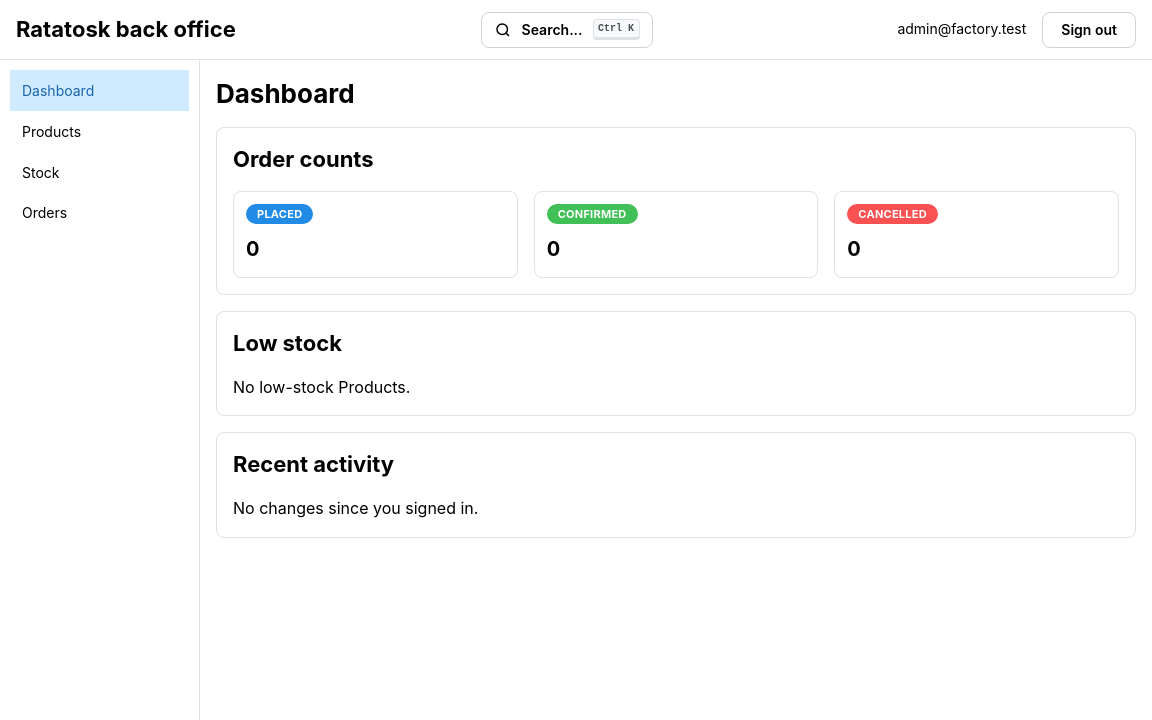
App › shows the Orders screen from the navbar
The width and height of the screenshot is (1152, 720).
Click the button "Orders".
click(100, 213)  # box x1=10 y1=192 x2=189 y2=233
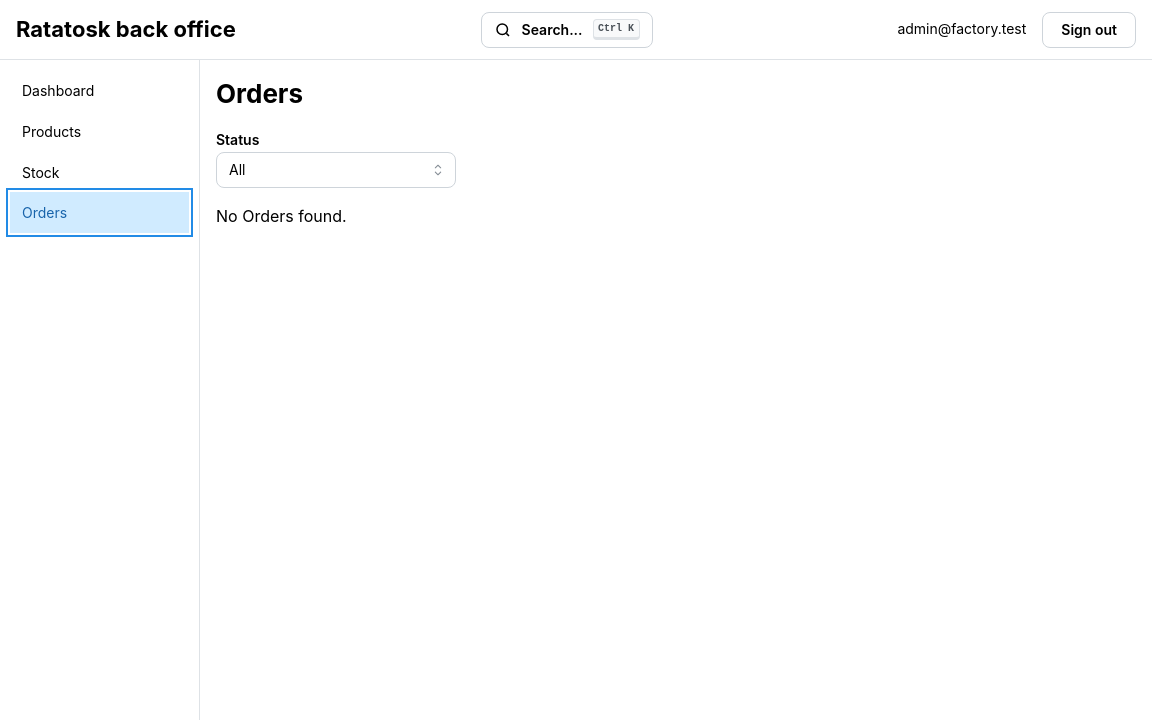
Check: the heading "Orders" is shown, box x1=216 y1=78 x2=303 y2=109
Check: the text "No Orders found." is shown, box x1=216 y1=206 x2=347 y2=226
